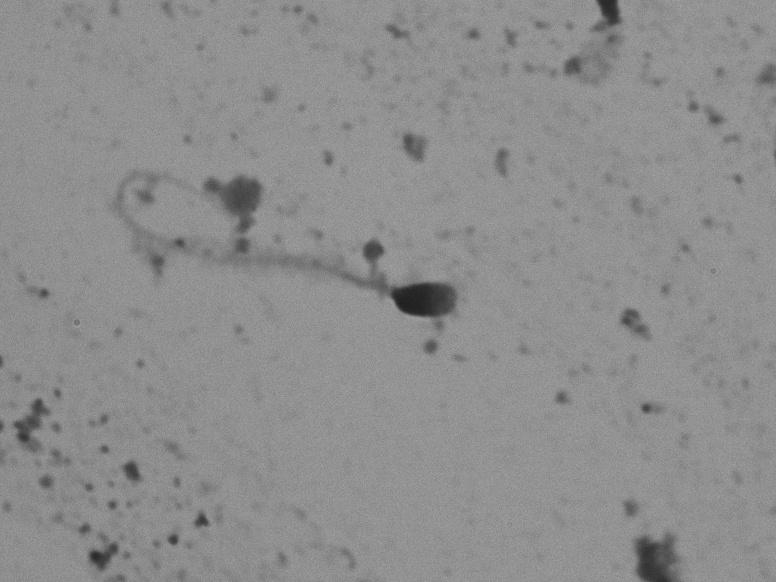Abnormal: (100, 158, 499, 345)
